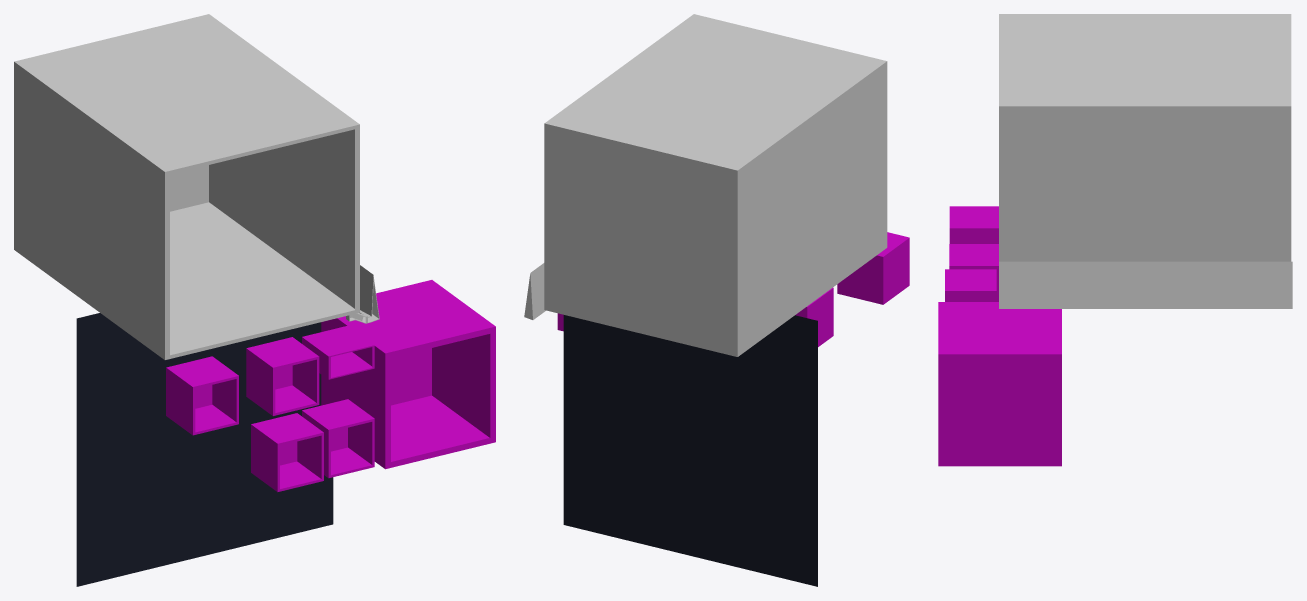
The model's file is CaveModules.002.fbx.
The picture shows the model from 3 angles, left to right: view 1: azimuth 30°, elevation 25°; view 2: azimuth 150°, elevation 25°; view 3: azimuth 270°, elevation 25°; orthographic projection. The views are drawn at different scales.
Parts seen in each view (by area): view 1: FalseBedroom, GenericRoom_005, GenericRoom_003, GenericRoom_001, GenericRoom_002, GenericRoom, GenericRoom_004, GenericRoom_006, EntryCrawlspace; view 2: FalseBedroom, GenericRoom_005, GenericRoom_002, GenericRoom, EntryCrawlspace; view 3: FalseBedroom, GenericRoom_003, EntryCrawlspace, GenericRoom_002, GenericRoom_006, GenericRoom_001.
Boxes of the visible parts, x1,y1,x2,y2 form: FalseBedroom: [14, 14, 359, 359]; GenericRoom_005: [76, 313, 333, 586]; GenericRoom_003: [321, 280, 495, 469]; GenericRoom_001: [246, 337, 319, 415]; GenericRoom_002: [166, 356, 238, 435]; GenericRoom: [251, 413, 323, 491]; GenericRoom_004: [302, 399, 374, 478]; GenericRoom_006: [302, 325, 374, 379]; EntryCrawlspace: [352, 265, 379, 323]; FalseBedroom: [544, 14, 887, 356]; GenericRoom_005: [563, 315, 817, 586]; GenericRoom_002: [837, 232, 909, 304]; GenericRoom: [795, 287, 833, 346]; EntryCrawlspace: [524, 263, 545, 319]; FalseBedroom: [999, 14, 1291, 261]; GenericRoom_003: [938, 302, 1061, 466]; EntryCrawlspace: [999, 261, 1292, 308]; GenericRoom_002: [949, 206, 998, 243]; GenericRoom_006: [945, 269, 996, 301]; GenericRoom_001: [949, 244, 998, 301].
Size of what is drawn, in the model's own units: 103 by 150 by 106.
